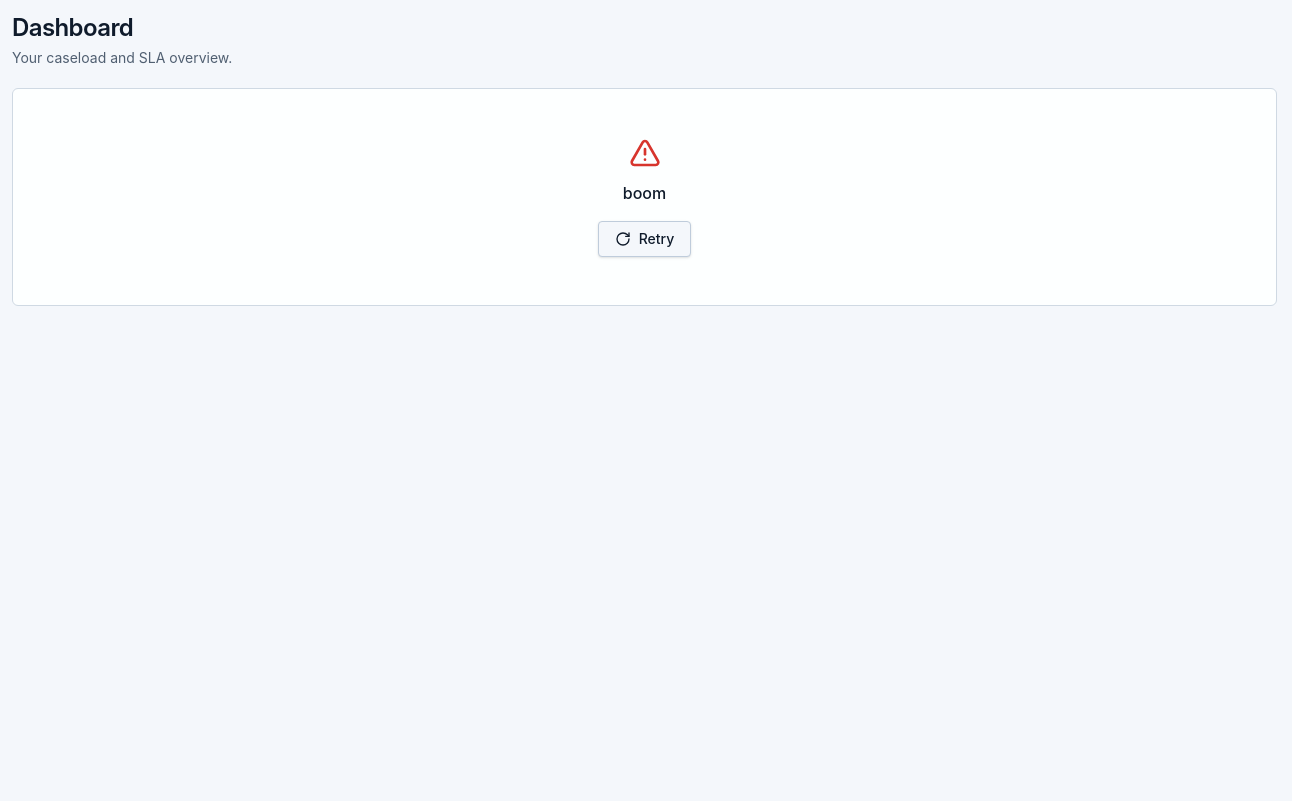
Test: DashboardPage › shows an error state with Retry on failure
The width and height of the screenshot is (1292, 801).
Expected: the message "boom Retry" is shown, [12,88,1277,306]
Click the button "Retry": (644, 239) [598,221,691,257]
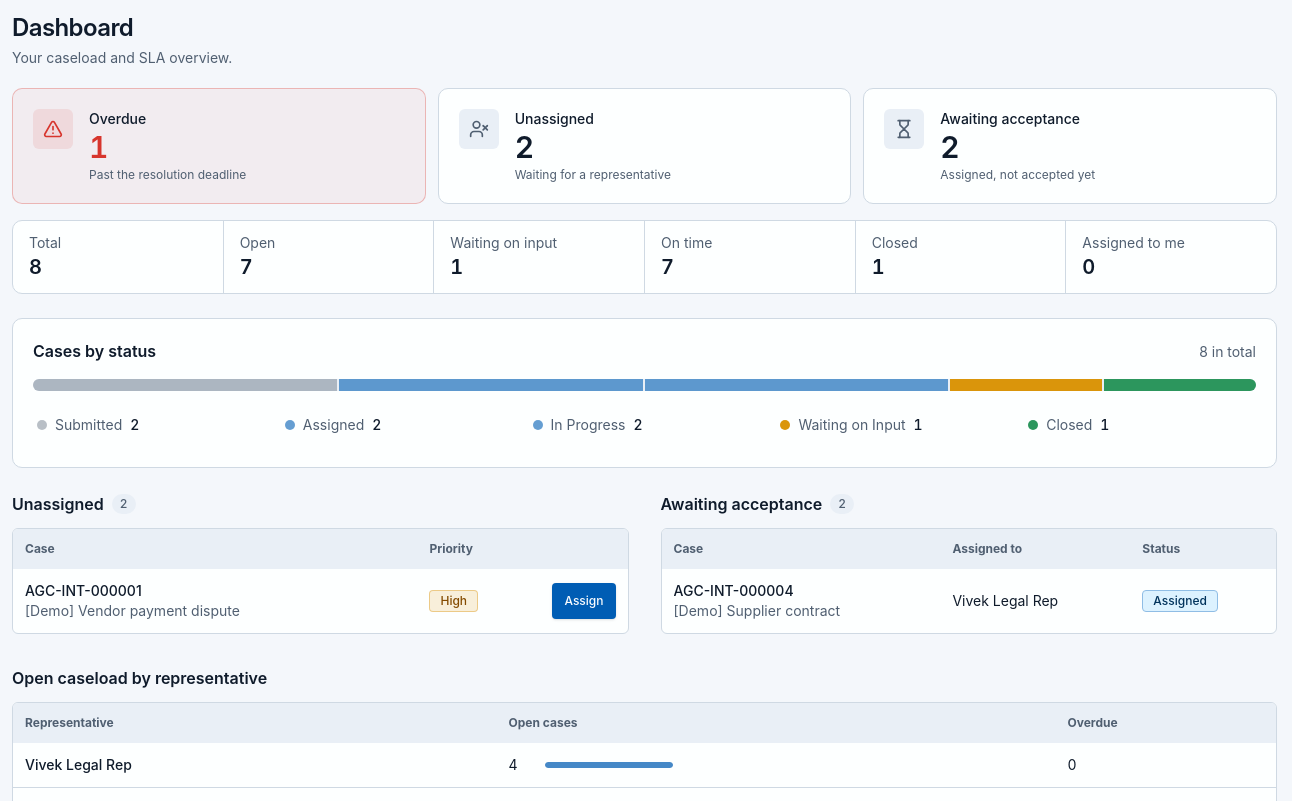
Expected: the text "Total" is shown, [29,234,61,250]
